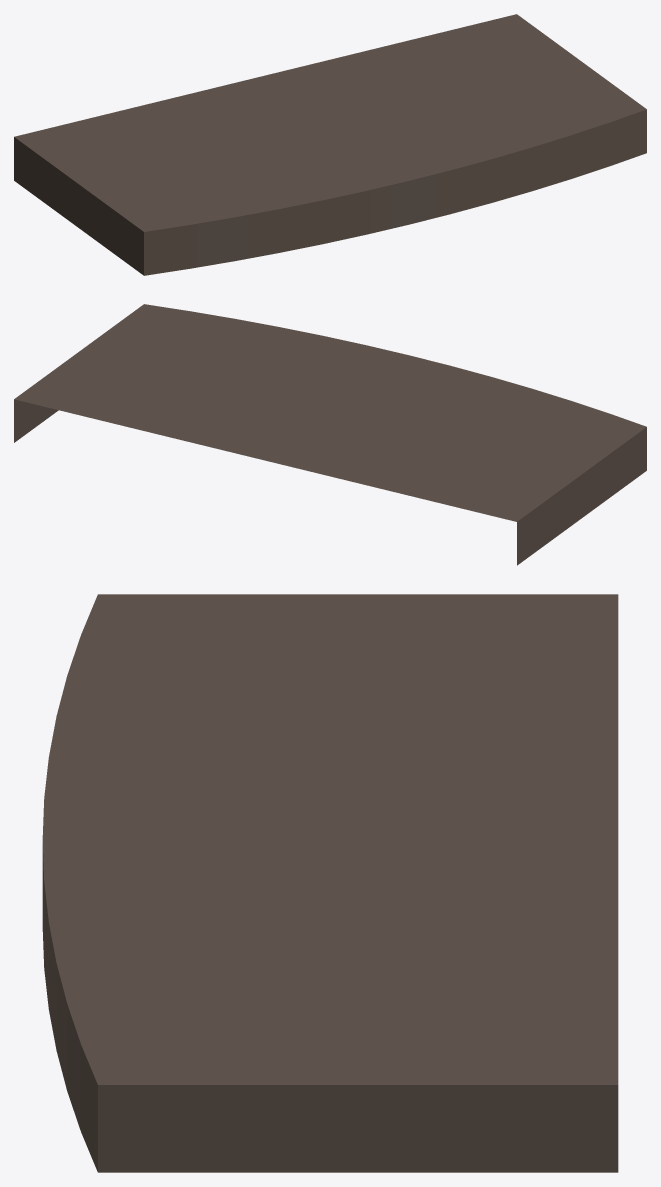
The model's file is original_1.obj.
The picture shows the model from 3 angles, top to bottom: view 1: azimuth 30°, elevation 25°; view 2: azimuth 150°, elevation 25°; view 3: azimuth 270°, elevation 25°; orthographic projection. The views are drawn at different scales.
Parts seen in each view (by area): view 1: #ID3; view 2: #ID3; view 3: #ID3.
Part boxes in pixels (bbox=[...]): #ID3: bbox=[14, 14, 646, 275]; #ID3: bbox=[14, 304, 646, 565]; #ID3: bbox=[42, 594, 618, 1172].
Size of the model in its own units: 0.3459 by 0.0288 by 0.1714.
